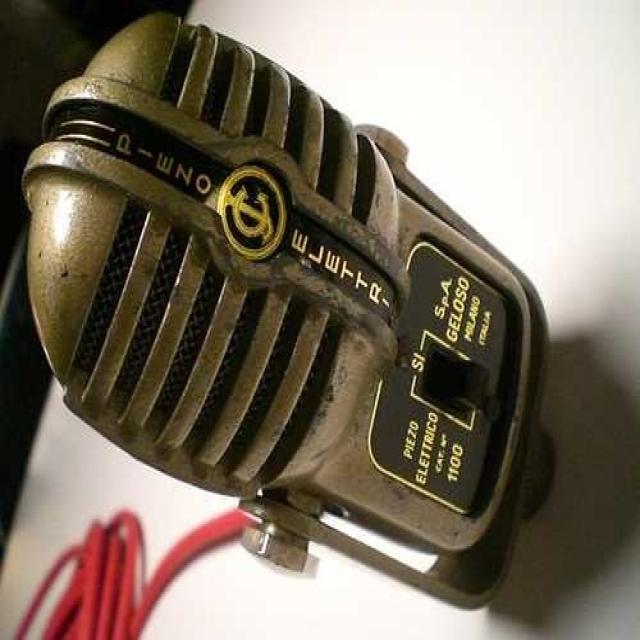microphone: (18, 9, 548, 580)
